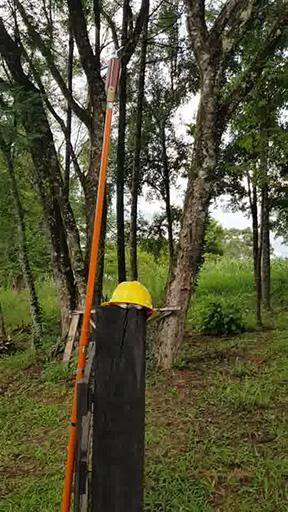Detector_Tensao_Contato: (104, 45, 121, 93)
Vara_Manobra: (63, 94, 115, 512)
